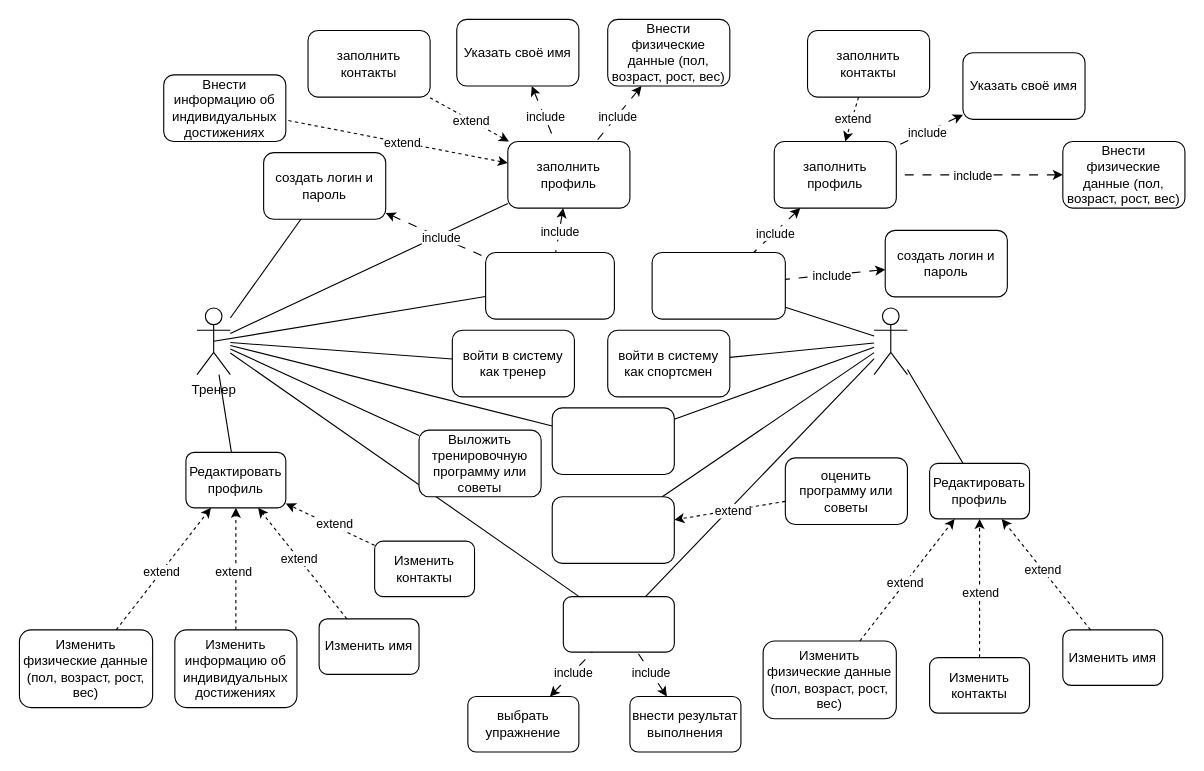
This 1204x771 diagram has some shape labels left out. The centre of each missing label's shape, as x and y in pixels:
"внести результаты своих тренировок" goes at (618,624).
"зарегистрироваться как спортсмен" goes at (718,285).
"зарегистрироваться как тренер" goes at (549,285).
"Просмотреть профили других спортсменов или тренеров" goes at (612,441).
"Просмотреть тренировочные программы и советы" goes at (612,529).
"Спортсмен" goes at (890,341).
